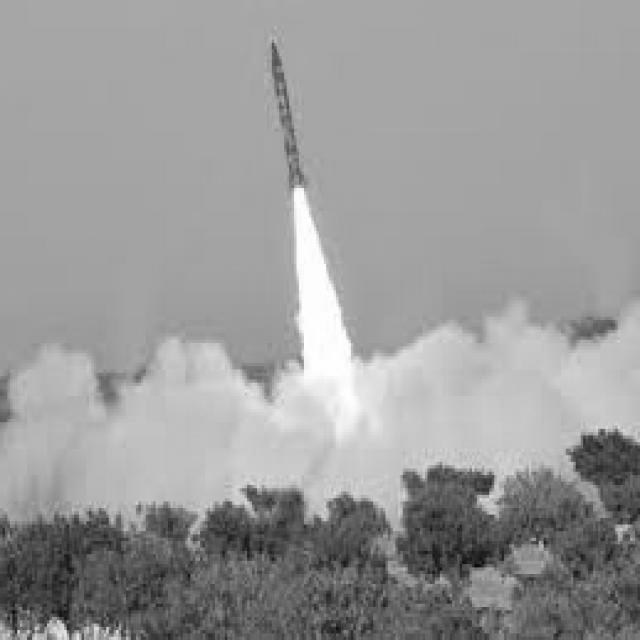Missile: (263, 42, 317, 195)
